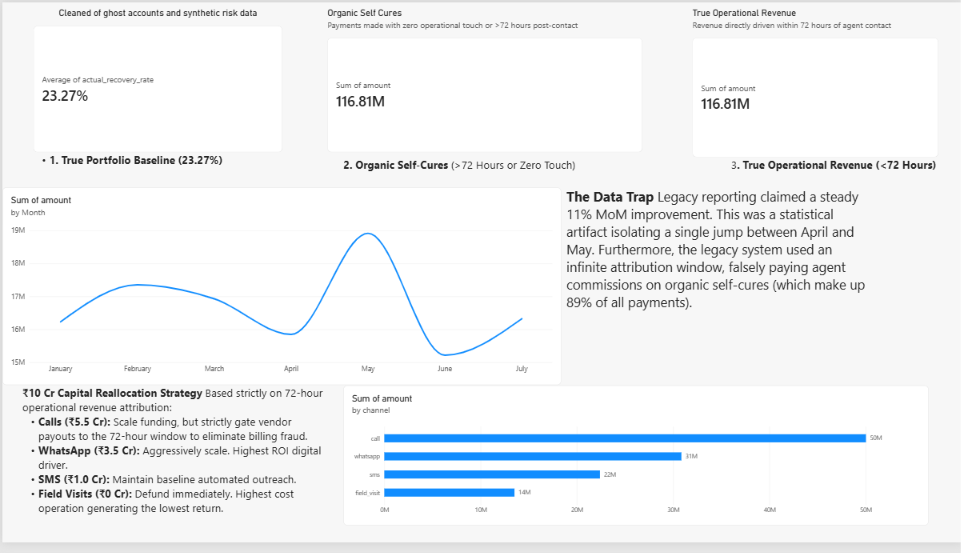

The page's visual inventory and layout, read from the dashboard file:
{"tool":"powerbi","page":{"name":"Page 1","canvas":[1920,1080],"ordinal":0},"visuals":[{"type":"cardVisual","title":"Cleaned of ghost accounts and synthetic risk data","fields":{"Data":["Avg(golden_master_entity.actual_recovery_rate)"]},"box":[62.5,10,498,290],"z":0},{"type":"cardVisual","title":"Organic Self Cures","fields":{"Data":["Sum(golden_attribution_ledger.amount)"]},"box":[650,10,630,290],"z":1000},{"type":"cardVisual","title":"True Operational Revenue","fields":{"Data":["Sum(golden_attribution_ledger.amount)"]},"box":[1380,10,492.5,300],"z":2000},{"type":"lineChart","fields":{"Category":["golden_attribution_ledger.interaction_time.Variation.Date Hierarchy.Month"],"Y":["Sum(golden_attribution_ledger.amount)"]},"box":[0,370,1117.5,395],"z":3000},{"type":"clusteredBarChart","fields":{"Category":["golden_attribution_ledger.channel"],"Y":["Sum(golden_attribution_ledger.amount)"]},"box":[682.5,765,1170,280],"z":4001},{"type":"textbox","box":[40,765,610,280],"z":4002},{"type":"textbox","box":[1127.5,370,617.5,337.5],"z":4003},{"type":"textbox","box":[62.5,300,517.5,70],"z":4004},{"type":"textbox","box":[682.5,310,1215,60],"z":4005}]}

Visuals, with their boxes in screenshot pixels (x1, y1, x2, y2), scaled from the page's 1920x1080 canvas onto the 961x553 screenshot:
"Cleaned of ghost accounts and synthetic risk data" cardVisual: <bbox>31, 5, 281, 154</bbox>
"Organic Self Cures" cardVisual: <bbox>325, 5, 641, 154</bbox>
"True Operational Revenue" cardVisual: <bbox>691, 5, 937, 159</bbox>
lineChart - golden_attribution_ledger.interaction_time.Variation.Date Hierarchy.Month x Sum(golden_attribution_ledger.amount): <bbox>0, 189, 559, 392</bbox>
clusteredBarChart - golden_attribution_ledger.channel x Sum(golden_attribution_ledger.amount): <bbox>342, 392, 927, 535</bbox>
textbox: <bbox>20, 392, 325, 535</bbox>
textbox: <bbox>564, 189, 873, 362</bbox>
textbox: <bbox>31, 154, 290, 189</bbox>
textbox: <bbox>342, 159, 950, 189</bbox>
